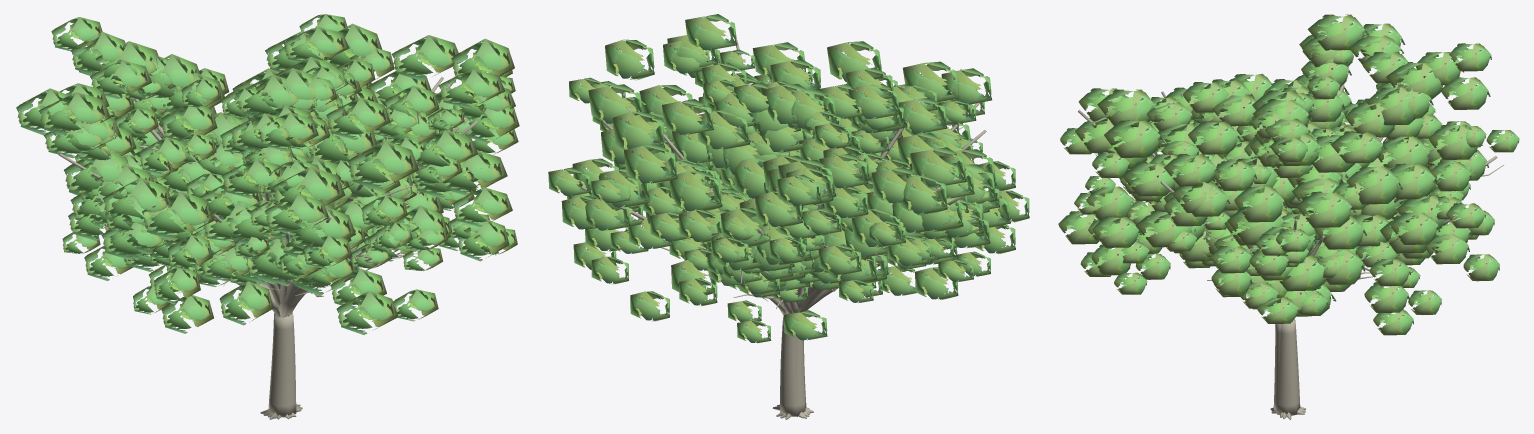
The model's file is london_plane.glb.
3 renders of one model, left to right at view 1: azimuth 30°, elevation 25°; view 2: azimuth 150°, elevation 25°; view 3: azimuth 270°, elevation 25°, orthographic. The views are drawn at different scales.
Visible parts, largest first — view 1: LondonPlane_2, LondonPlane_5, LondonPlane_3, LondonPlane_1, LondonPlane_4; view 2: LondonPlane_5, LondonPlane_2, LondonPlane_3, LondonPlane_1, LondonPlane_4; view 3: LondonPlane_2, LondonPlane_5, LondonPlane_4, LondonPlane_1, LondonPlane_3.
Boxes of the visible parts, x1,y1,x2,y2 form: LondonPlane_2: [44, 17, 519, 418]; LondonPlane_5: [68, 14, 515, 418]; LondonPlane_3: [84, 31, 518, 419]; LondonPlane_1: [75, 27, 484, 419]; LondonPlane_4: [16, 57, 517, 419]; LondonPlane_5: [548, 14, 1015, 416]; LondonPlane_2: [569, 35, 1029, 419]; LondonPlane_3: [599, 84, 990, 419]; LondonPlane_1: [573, 61, 1015, 418]; LondonPlane_4: [567, 59, 966, 418]; LondonPlane_2: [1058, 32, 1494, 419]; LondonPlane_5: [1060, 73, 1519, 417]; LondonPlane_4: [1086, 14, 1482, 414]; LondonPlane_1: [1075, 82, 1473, 417]; LondonPlane_3: [1074, 62, 1463, 418].
Size of the model in its own units: 7.8 by 5.85 by 7.59.
2 materials, 1 textured.
